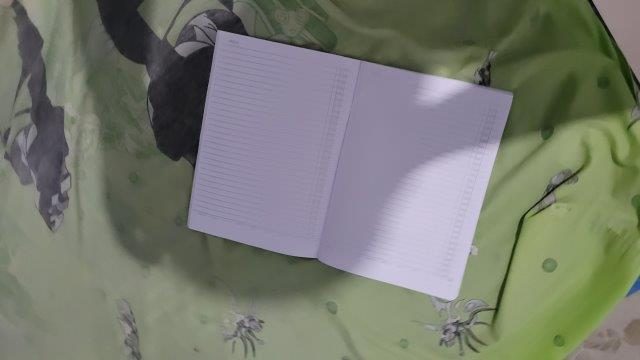kertas: (185, 28, 513, 302)
